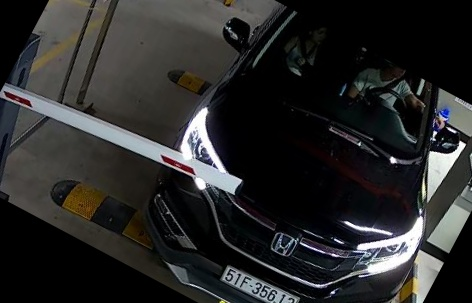plate: (218, 259, 303, 303)
